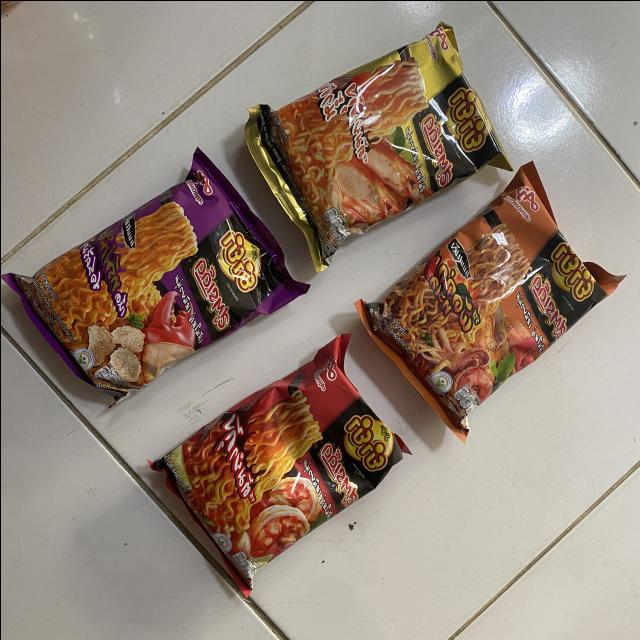plastik: (0, 148, 308, 402), (354, 161, 623, 441), (148, 334, 407, 595), (244, 21, 510, 270)
